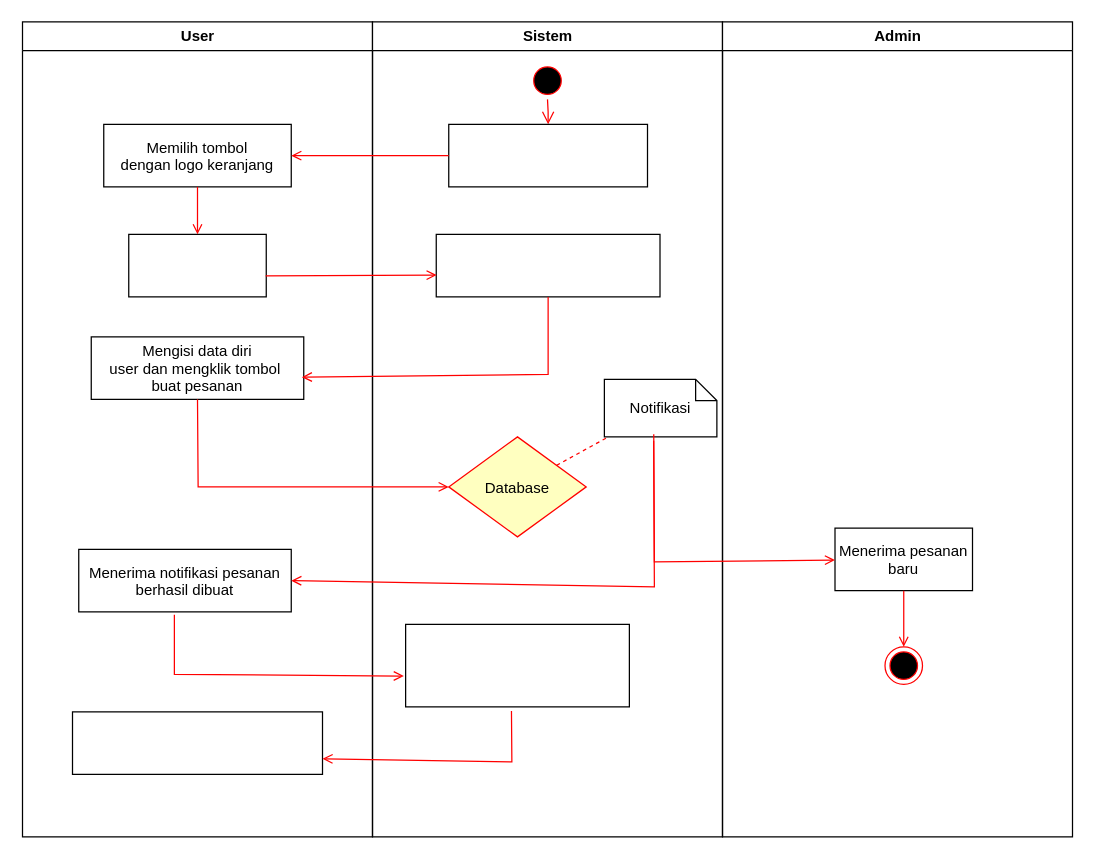
Image size: 1094x859. Some labels were removed from this diagram. Here are the shapes that lost their labels. From the top down, the centre of each, then its label:
At point 548,155: "Menampilkan halaman utama".
At point 197,265: "Memilih opsi checkout".
At point 547,265: "Menampilkan halaman checkout".
At point 516,665: "Sistem mengalihkan ke halaman pembayaran".
At point 196,742: "Sistem menampilkan ke halaman pembayaran".
